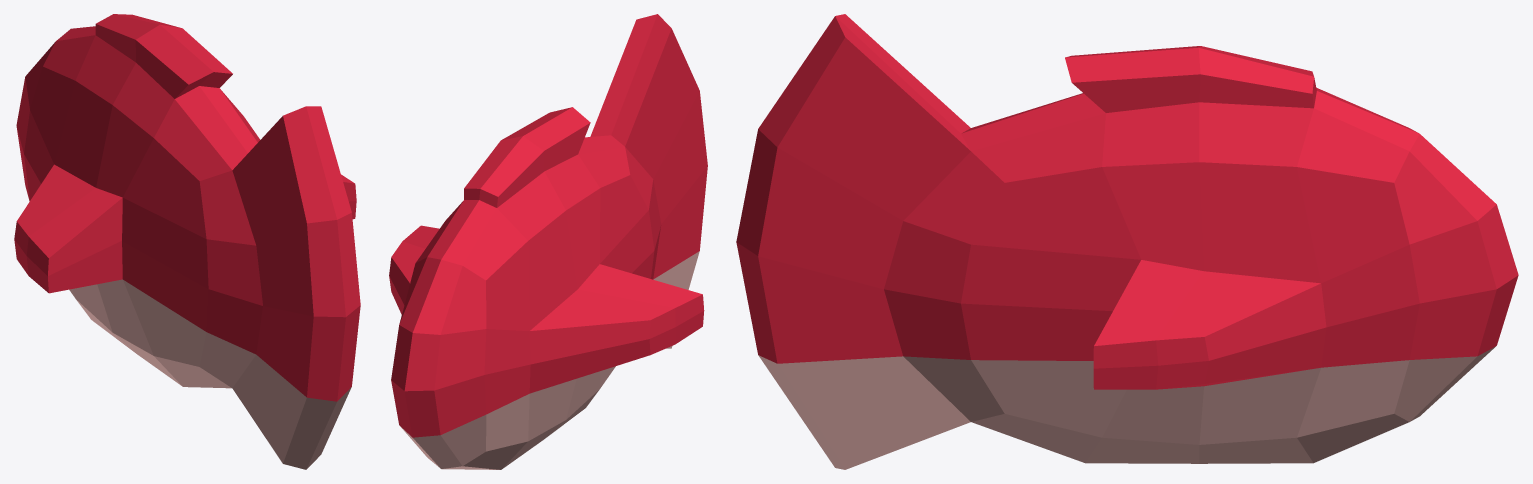
File: red_fish.glb
3 views of the same model, side by side, from view 1: azimuth 30°, elevation 25°; view 2: azimuth 150°, elevation 25°; view 3: azimuth 270°, elevation 25° (orthographic). The views are drawn at different scales.
Parts seen in each view (by area): view 1: red; view 2: red; view 3: red.
Boxes of the visible parts, x1,y1,x2,y2 form: red: (14,14,360,469); red: (389,14,707,469); red: (736,14,1518,469).
Size of the model in its own units: 0.4577 by 0.5152 by 0.8081.
